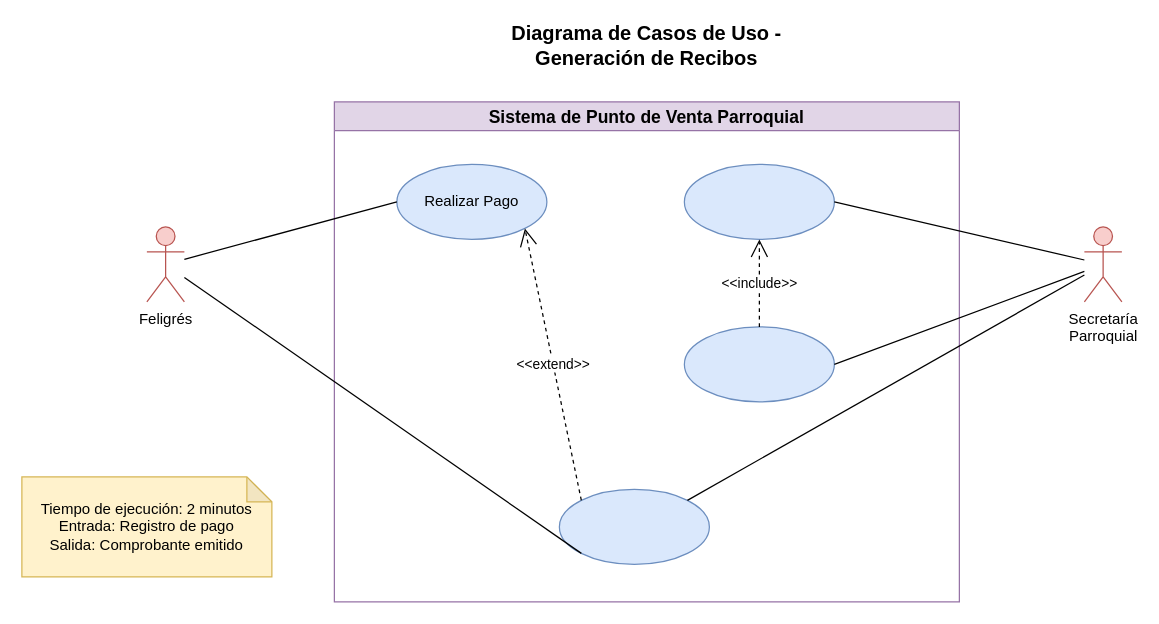
Some shapes in this 1159 by 624 pixel diagram are drawn without their labels. Each missing label, with the box of its shape:
Entregar Comprobante: (558, 488, 709, 564)
Generar Recibo de Pago: (683, 326, 834, 402)
Verificar Información del Pago: (683, 163, 834, 239)
